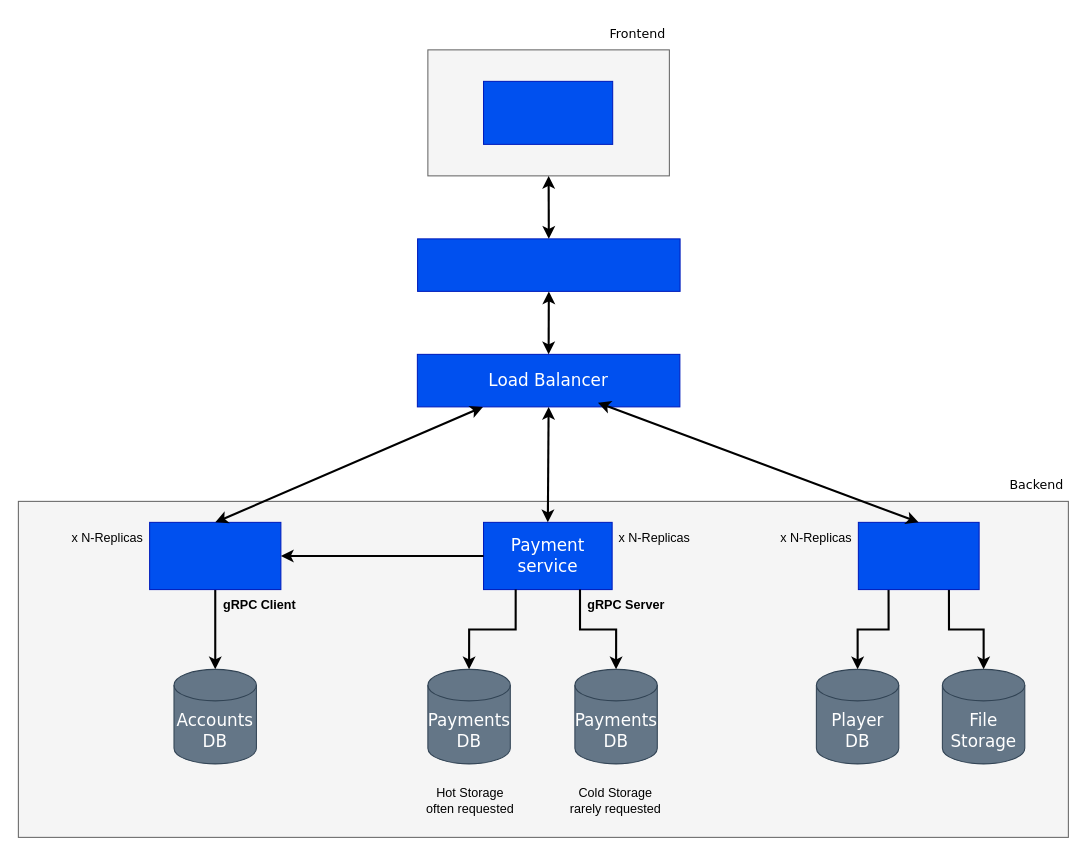
Some shapes in this 1087 by 856 pixel diagram are drawn without their labels. The box of each missing label's shape, as (x1, y1, x2, y2) in pixels:
Account Service: (149, 521, 281, 590)
Nginx Reverse Proxy: (417, 238, 680, 291)
Player Service: (857, 521, 979, 590)
PlayJ Clien: (482, 80, 613, 144)
